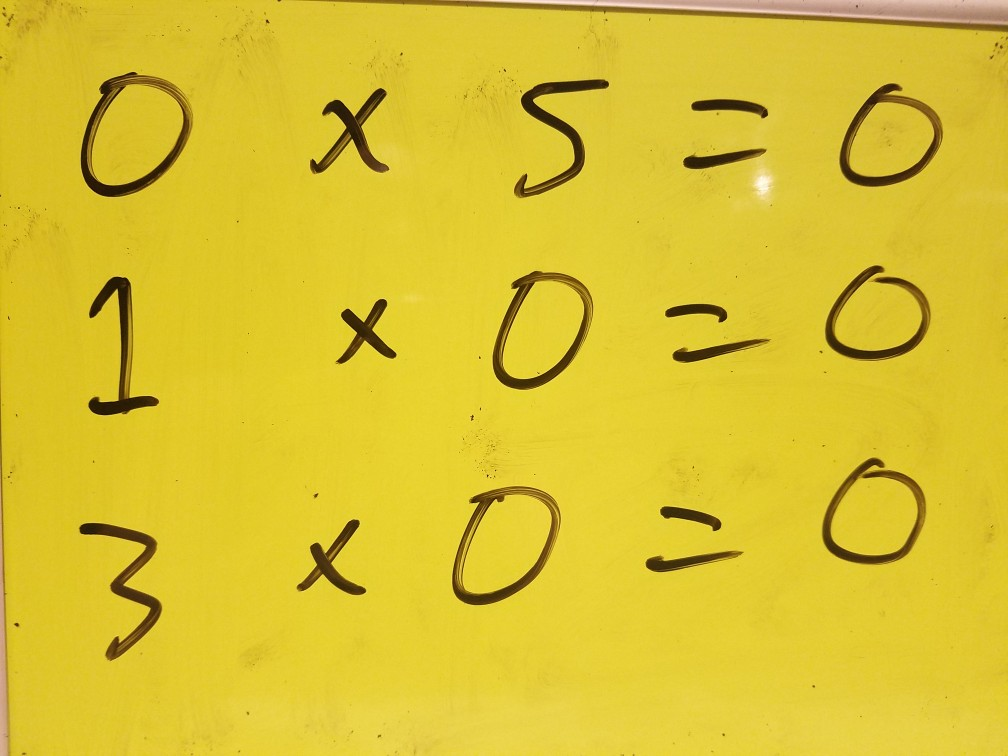0: (70, 54, 203, 217), (806, 436, 941, 587), (439, 468, 579, 613), (473, 260, 604, 401), (809, 242, 942, 377), (827, 73, 957, 203)
1: (69, 263, 182, 429)
3: (75, 499, 189, 677)
5: (499, 64, 617, 210)
=: (635, 474, 760, 595), (665, 81, 780, 188), (646, 289, 771, 377)
x: (299, 76, 403, 193), (283, 509, 387, 623), (315, 273, 404, 392)
